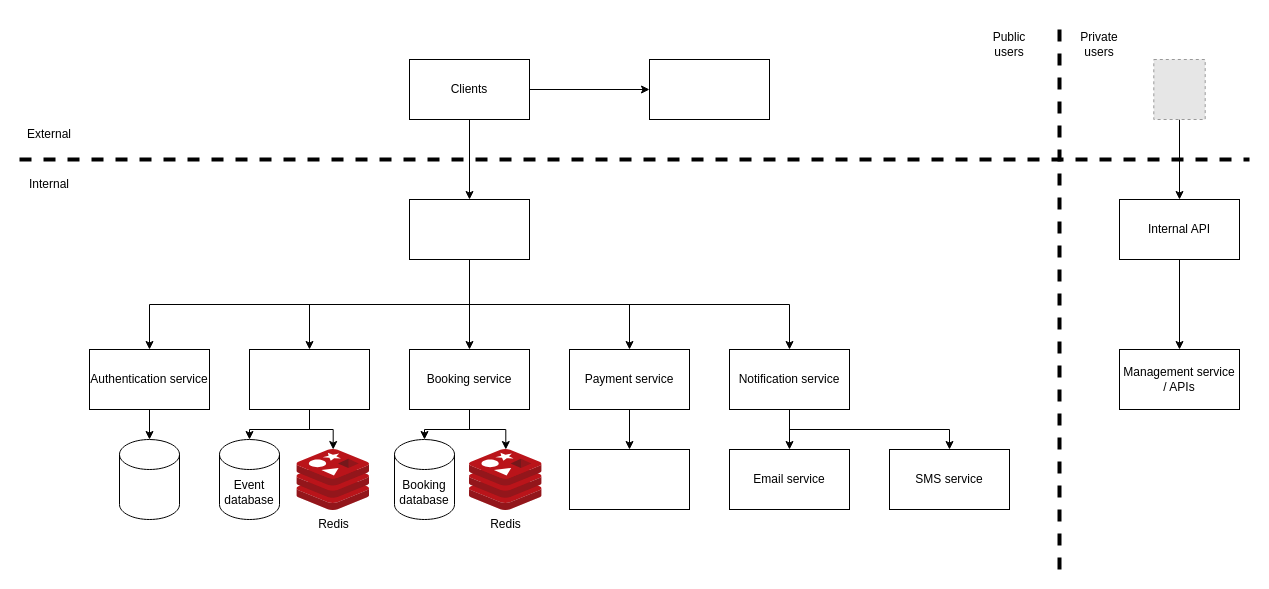
Image size: 1269x589. Some labels were removed from this diagram. Grey dashed boxes stand in for pictures. The shapes that lost their labels are listed below. From the top down, each one's box as (x1, y1, x2, y2) in pixels, then its label:
(648, 58, 770, 120): CDN
(408, 198, 530, 260): Public API Gateway / Load balancer
(248, 348, 370, 410): Event service
(118, 438, 180, 520): Authen database
(568, 448, 690, 510): Payment gateway
